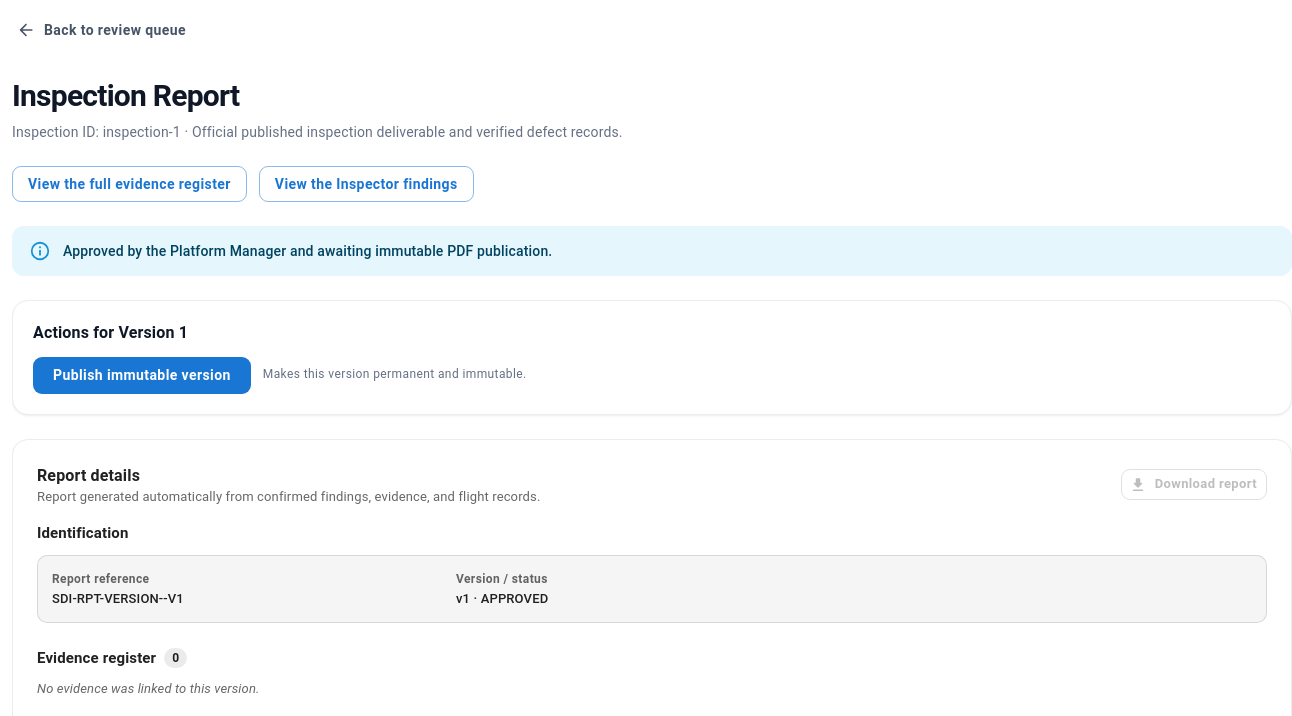
Test: ReportDetailPage MF3 gates › shows a user-visible error when report publishing fails
This screenshot has width=1292, height=716.
Step 1. Click the button "Publish immutable version" → [142, 375], box [33,357,251,394]
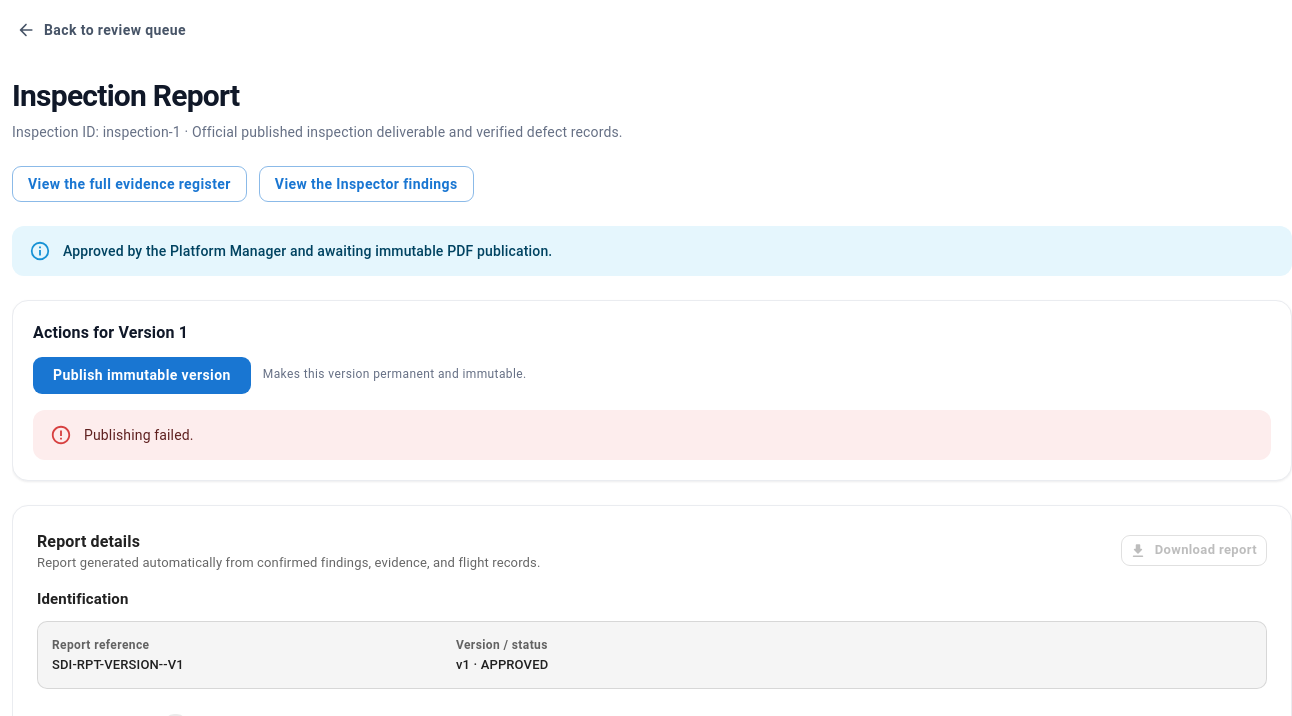
Expected: the text "Publishing failed." is shown, [84,426,194,442]
